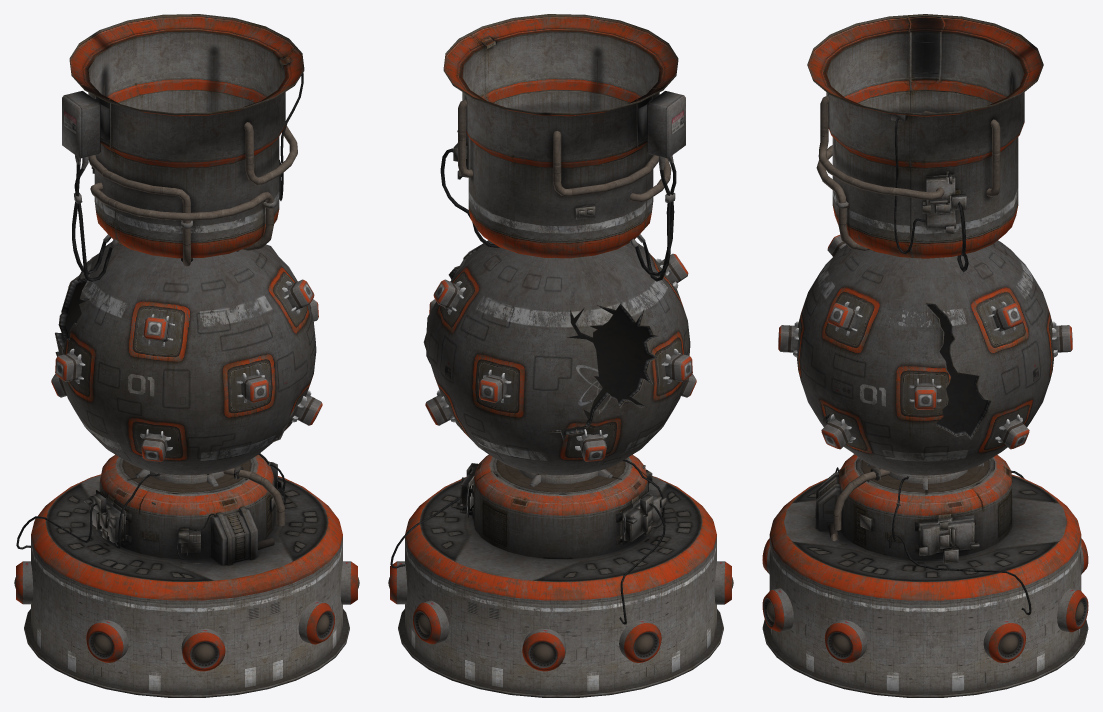
The model's file is 04_02_reactor.dae.
3 renders of one model, left to right at view 1: azimuth 30°, elevation 25°; view 2: azimuth 150°, elevation 25°; view 3: azimuth 270°, elevation 25°, orthographic.
Visible parts, largest first — view 1: polySurface124, pSphere5, polySurface229, polySurface143, pSphere2; view 2: polySurface124, pSphere5, polySurface229, polySurface143, pSphere2; view 3: polySurface124, pSphere5, polySurface229, polySurface143, pSphere2.
Part boxes in pixels (x1=…): polySurface124: x1=16, y1=14, x2=349, y2=697; pSphere5: x1=55, y1=242, x2=316, y2=475; polySurface229: x1=14, y1=561, x2=359, y2=671; polySurface143: x1=51, y1=279, x2=322, y2=461; pSphere2: x1=61, y1=281, x2=86, y2=342; polySurface124: x1=390, y1=14, x2=723, y2=697; pSphere5: x1=423, y1=240, x2=690, y2=475; polySurface229: x1=388, y1=561, x2=733, y2=671; polySurface143: x1=425, y1=253, x2=696, y2=461; pSphere2: x1=561, y1=307, x2=654, y2=435; polySurface124: x1=762, y1=14, x2=1088, y2=697; pSphere5: x1=796, y1=240, x2=1054, y2=475; polySurface229: x1=762, y1=538, x2=1088, y2=662; polySurface143: x1=778, y1=235, x2=1072, y2=449; pSphere2: x1=928, y1=305, x2=986, y2=435.
Bounding box in the file's own units: 5.7 × 11.01 × 5.74.
